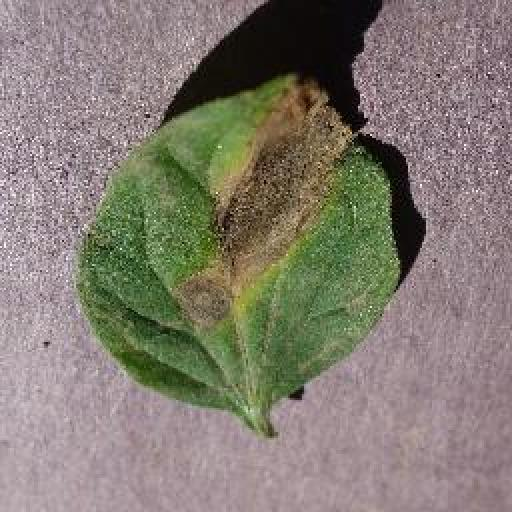Early Blight: (70, 72, 403, 425)
